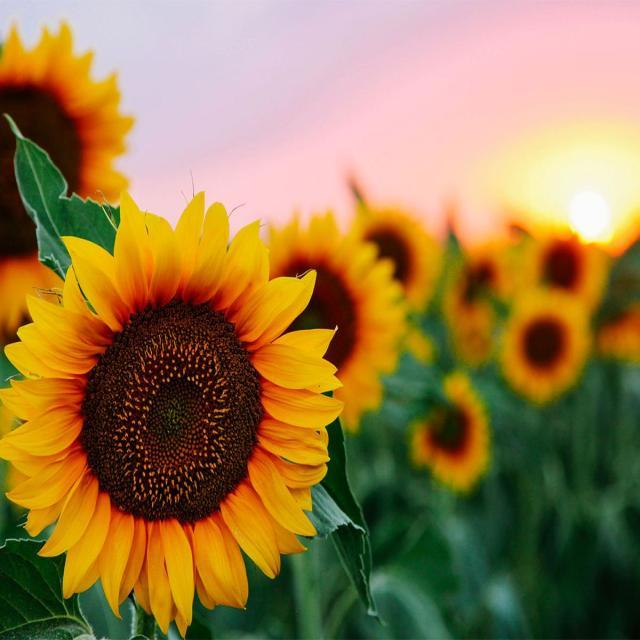sunflower: (0, 185, 345, 638), (0, 19, 134, 336), (259, 209, 406, 432), (500, 288, 590, 403), (408, 370, 491, 492), (348, 211, 440, 312), (442, 238, 512, 362), (529, 228, 611, 312), (594, 216, 639, 364)
